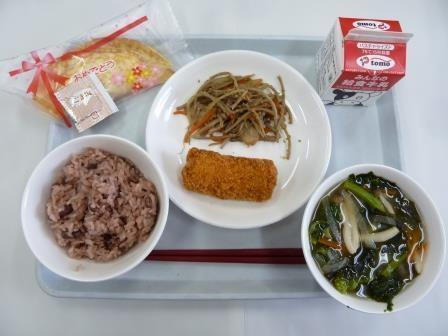Milk: (309, 10, 417, 120)
Mixed rice: (11, 136, 162, 281)
Soups: (302, 173, 445, 312)
cutlet: (178, 142, 287, 210)
pasta: (178, 67, 298, 146)
pastry: (31, 34, 175, 125)
